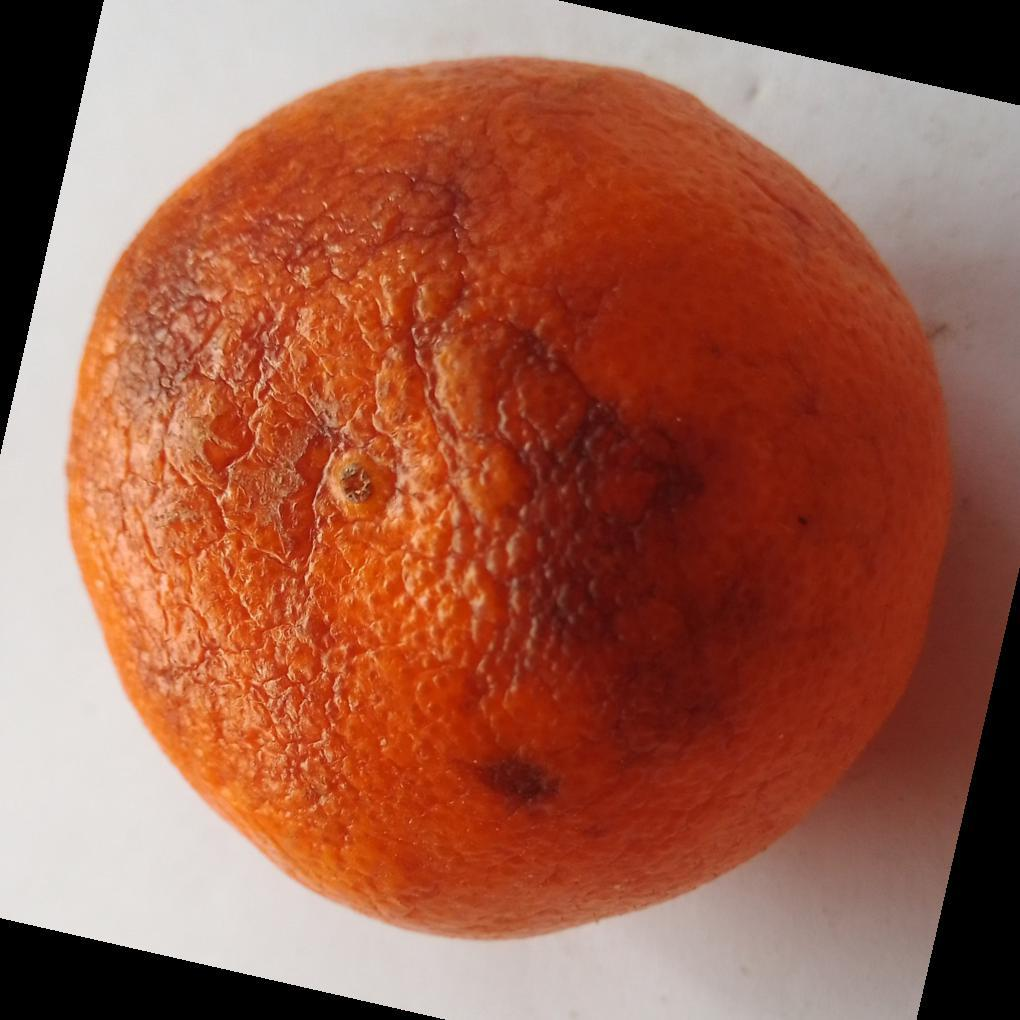FreshOrange: (61, 56, 957, 947)
